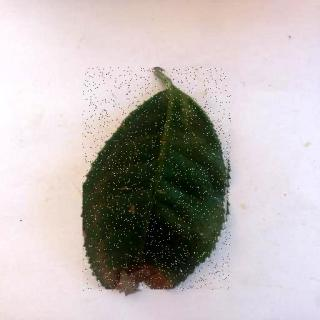Brown Blight: (84, 69, 232, 293)
